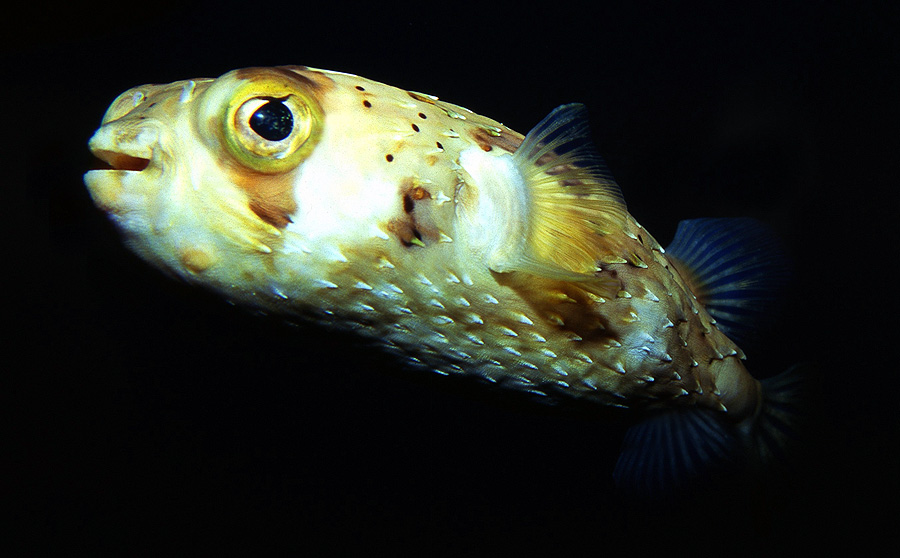Diodon_holocanthus: (75, 37, 834, 493)
